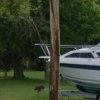Boat: (32, 35, 99, 80)
